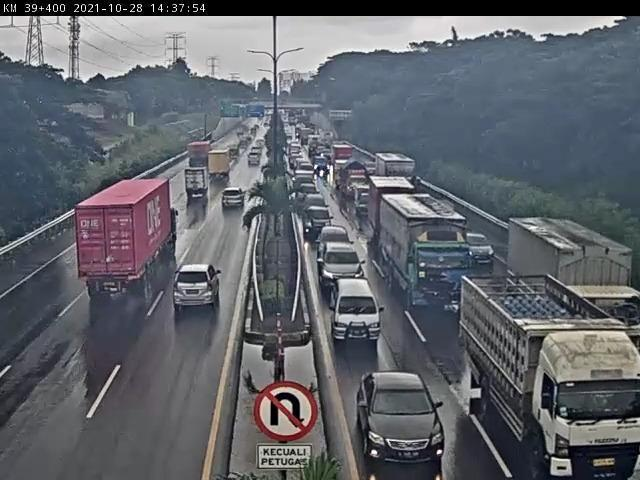bus: (326, 277, 401, 350)
car: (351, 356, 455, 479), (171, 255, 236, 336), (315, 237, 375, 286), (208, 195, 250, 236), (315, 220, 360, 258), (306, 204, 340, 242), (455, 223, 484, 264), (303, 191, 333, 213)
truck: (444, 261, 640, 473), (35, 175, 184, 323), (494, 200, 640, 351), (375, 189, 467, 313), (169, 166, 215, 221), (176, 137, 214, 182), (184, 156, 230, 187)
